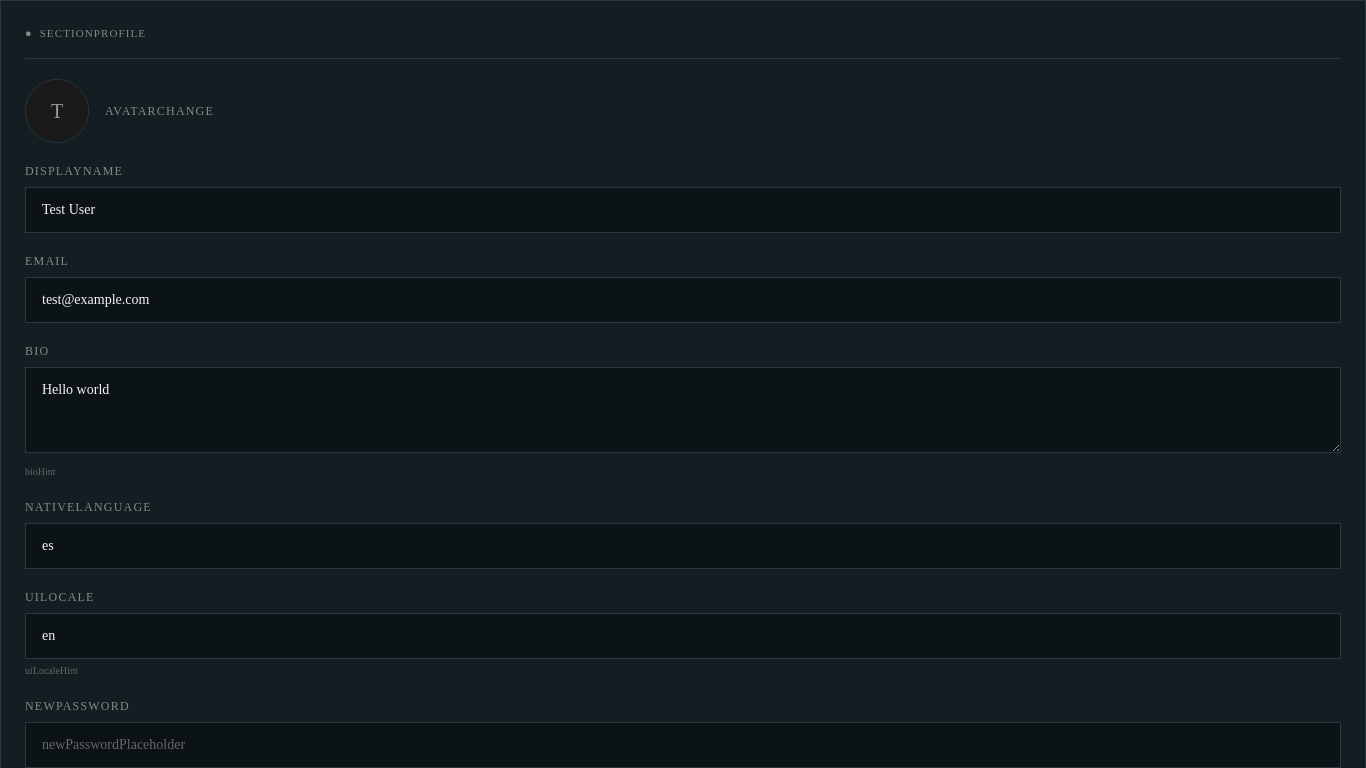
it: ProfileSection › confirm password is enabled when password has value
Type "secret123" into the password field with placeholder "newPasswordPlaceholder" at point(683, 744), box [25, 722, 1341, 767]
(page scrolled)
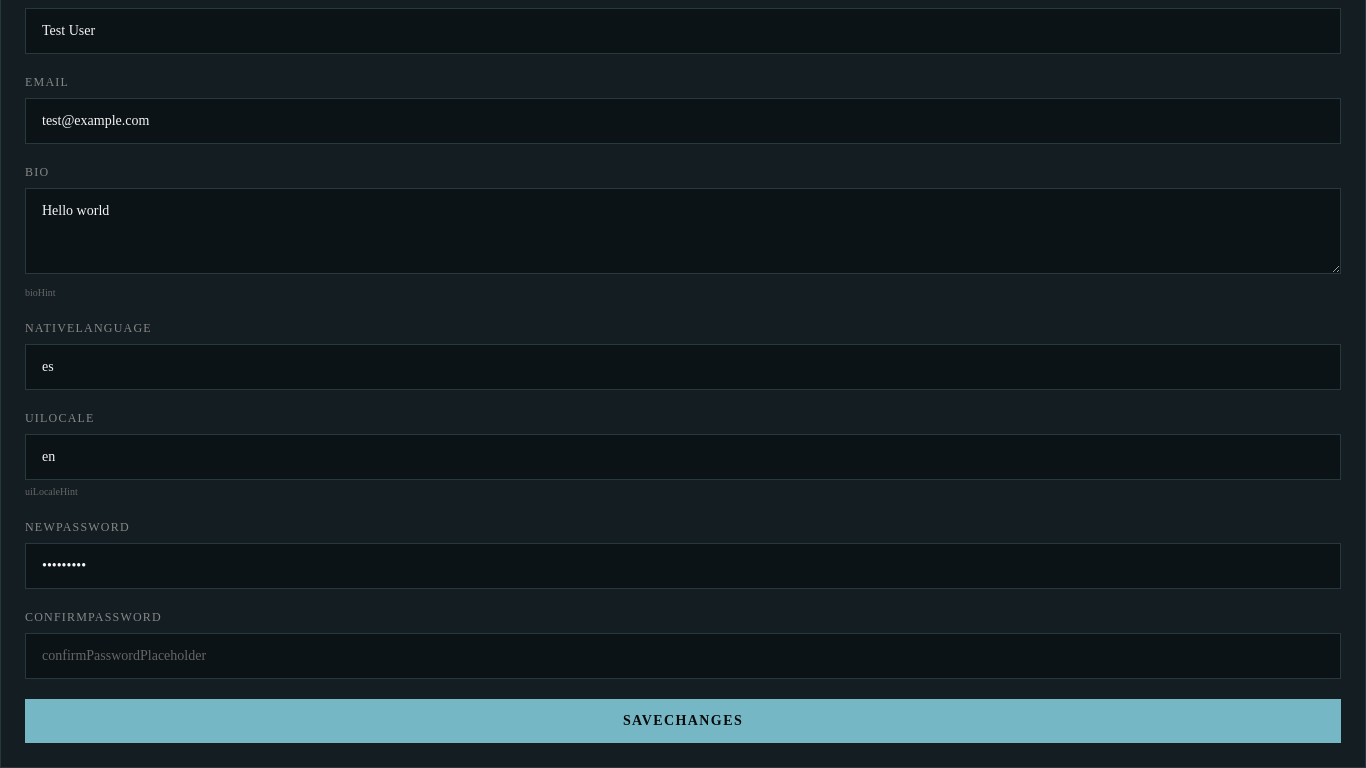
Now the password field with placeholder "confirmPasswordPlaceholder" is enabled, box [25, 632, 1341, 678]
